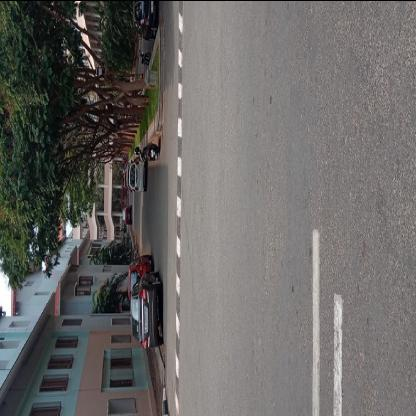speed-bumps: (169, 1, 192, 415)
